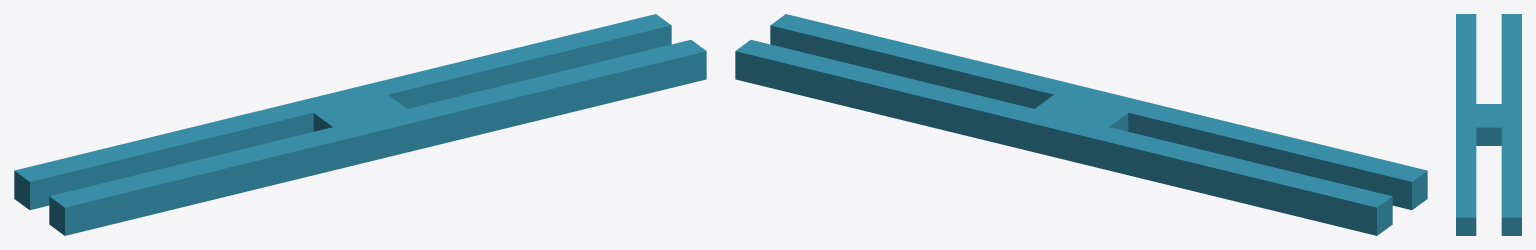
Rendered from assembly-tie-fork.gltf.
3 renders of one model, left to right at view 1: azimuth 30°, elevation 25°; view 2: azimuth 150°, elevation 25°; view 3: azimuth 270°, elevation 25°, orthographic. The views are drawn at different scales.
Visible parts, largest first — view 1: assembly-tie-fork.001, assembly-tie-fork, assembly-tie-fork.002; view 2: assembly-tie-fork, assembly-tie-fork.001, assembly-tie-fork.002; view 3: assembly-tie-fork, assembly-tie-fork.001, assembly-tie-fork.002.
Part boxes in pixels (x1,y1,x2,y2): assembly-tie-fork.001: (49, 40, 706, 235); assembly-tie-fork: (14, 14, 671, 209); assembly-tie-fork.002: (298, 83, 422, 166); assembly-tie-fork: (735, 40, 1392, 235); assembly-tie-fork.001: (770, 14, 1427, 209); assembly-tie-fork.002: (1019, 83, 1143, 166); assembly-tie-fork: (1501, 14, 1521, 235); assembly-tie-fork.001: (1456, 14, 1476, 235); assembly-tie-fork.002: (1456, 104, 1521, 145).
Bounding box in the file's own units: 1.9 × 0.08 × 0.26.
